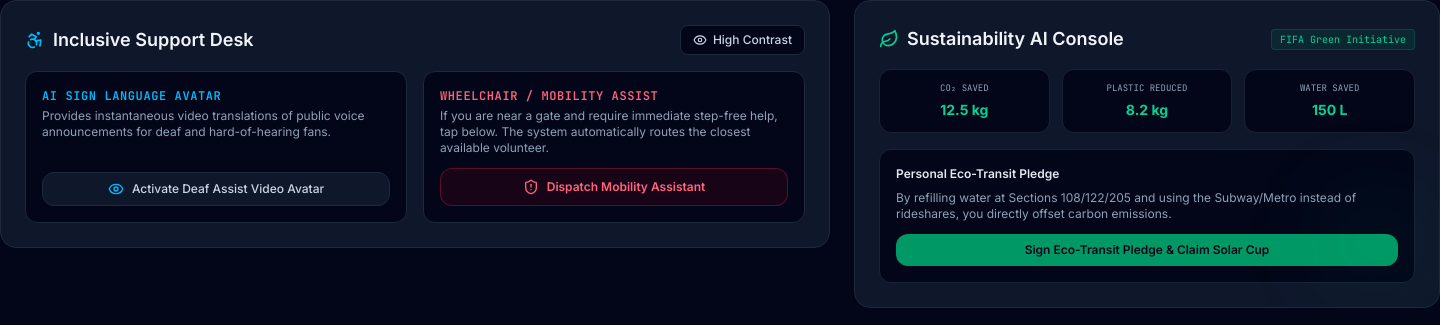
Test: FanApp Portal › tests accessibility request workflow and incident logging
The image size is (1440, 325).
Click the button "Dispatch Mobility Assistant". click: (614, 187)
box: x1=440 y1=168 x2=788 y2=206
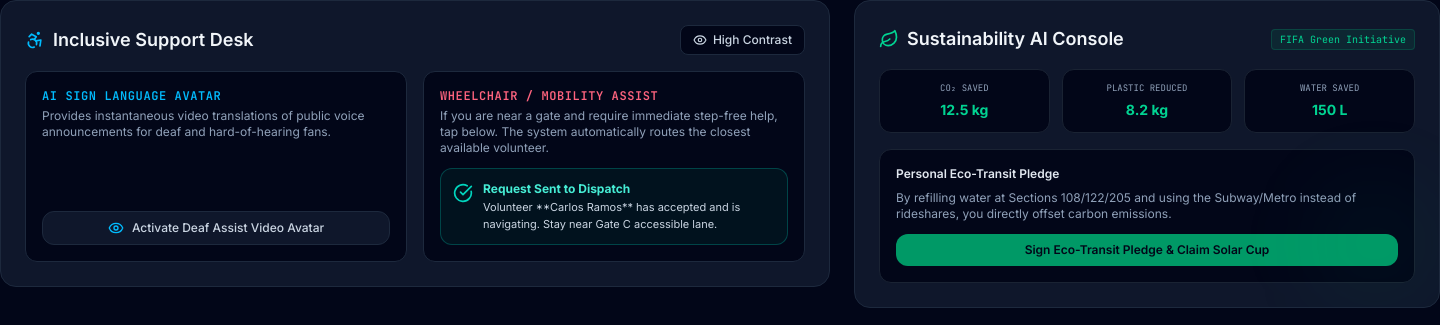
Result: the heading "Request Sent to Dispatch" is shown at x1=483 y1=181 x2=630 y2=196
